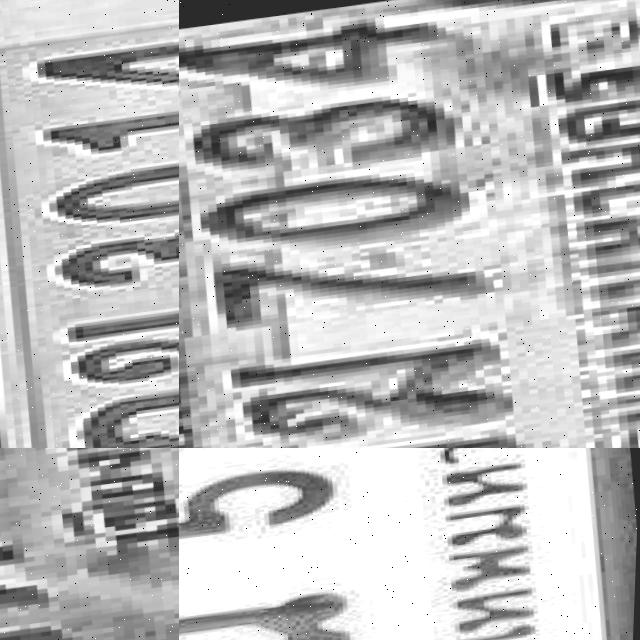license-plate: (179, 0, 640, 448), (179, 448, 640, 640), (0, 0, 179, 448), (0, 448, 179, 640)
